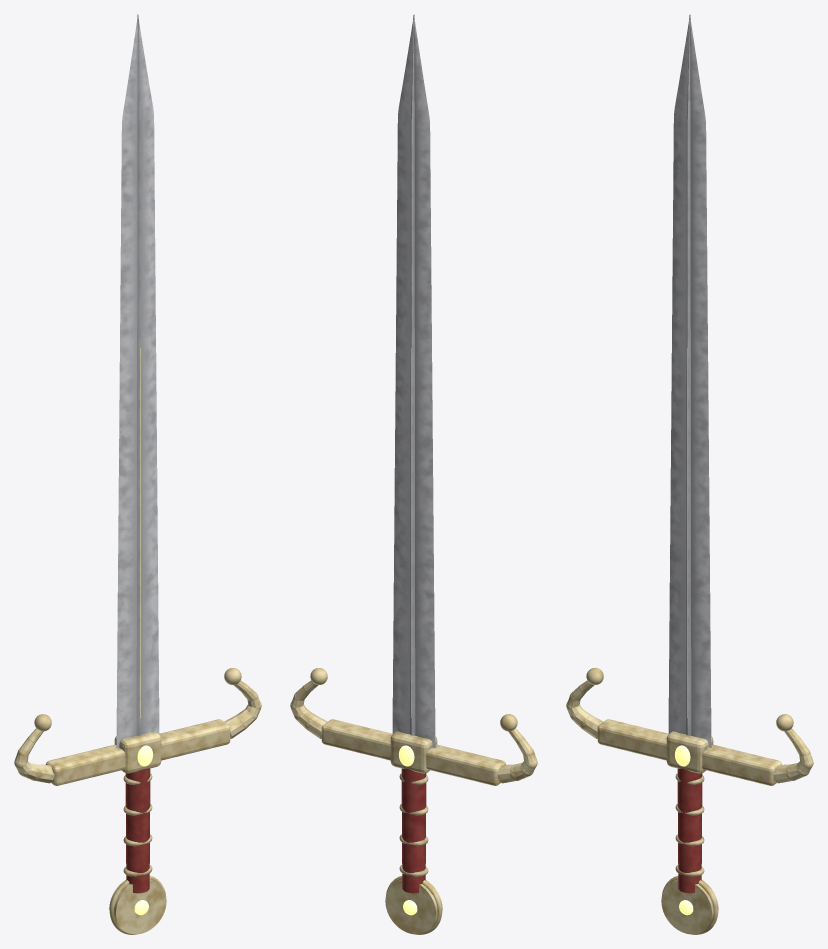
3 views of the same model, side by side, from view 1: azimuth 30°, elevation 25°; view 2: azimuth 150°, elevation 25°; view 3: azimuth 330°, elevation 25° (orthographic).
Visible parts, largest first — view 1: metal_steel, metal_gold, cloth_red, glow_edge; view 2: metal_steel, metal_gold, cloth_red, glow_edge; view 3: metal_steel, metal_gold, cloth_red, glow_edge.
Part boxes in pixels (<box>): metal_steel: <box>116,14,159,747</box>; metal_gold: <box>14,668,261,934</box>; cloth_red: <box>125,768,150,893</box>; glow_edge: <box>134,348,153,915</box>; metal_steel: <box>392,14,435,747</box>; metal_gold: <box>290,668,537,934</box>; cloth_red: <box>401,768,426,893</box>; glow_edge: <box>398,348,417,915</box>; metal_steel: <box>668,14,711,747</box>; metal_gold: <box>566,667,813,934</box>; cloth_red: <box>677,768,702,893</box>; glow_edge: <box>674,348,693,915</box>.
Bounding box in the file's own units: 0.3882 × 1.39 × 0.052.
Materials: 4 (3 with a texture image).
